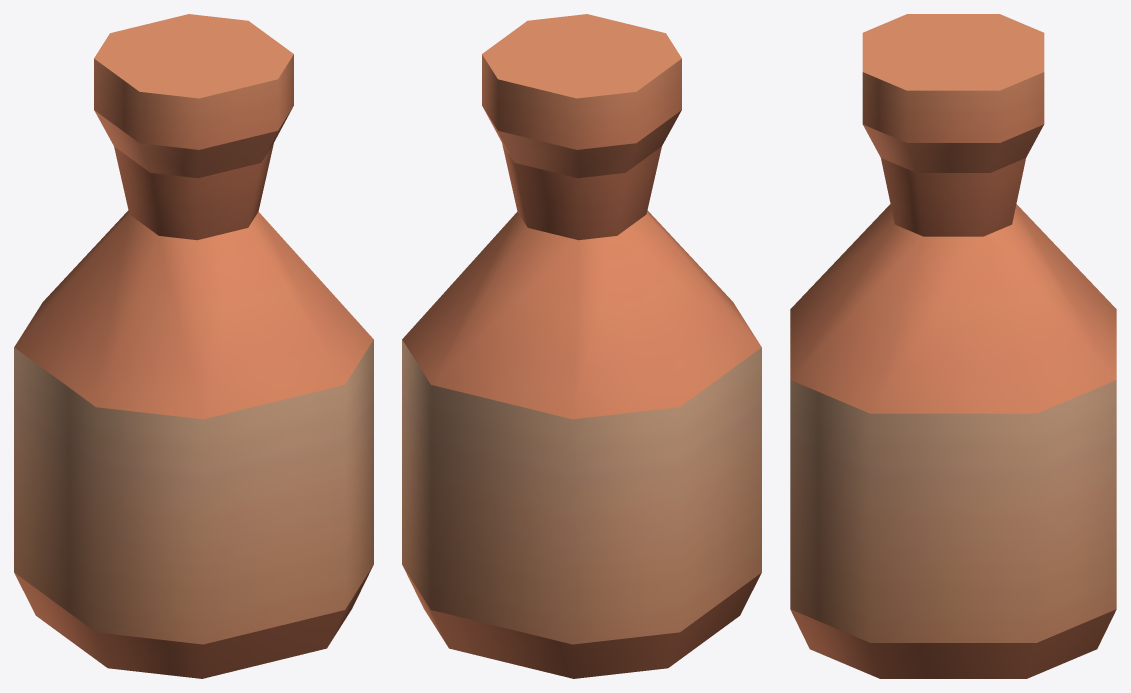
Rendered from bottle-large.glb.
3 views of the same model, side by side, from view 1: azimuth 30°, elevation 25°; view 2: azimuth 150°, elevation 25°; view 3: azimuth 270°, elevation 25° (orthographic).
Parts seen in each view (by area): view 1: bottle-large; view 2: bottle-large; view 3: bottle-large.
Boxes of the visible parts, x1,y1,x2,y2 form: bottle-large: (14,14,373,678); bottle-large: (402,14,761,678); bottle-large: (790,14,1116,678).
Bounding box in the file's own units: 0.4658 × 0.8905 × 0.4658.
Materials: 1 (1 with a texture image).
